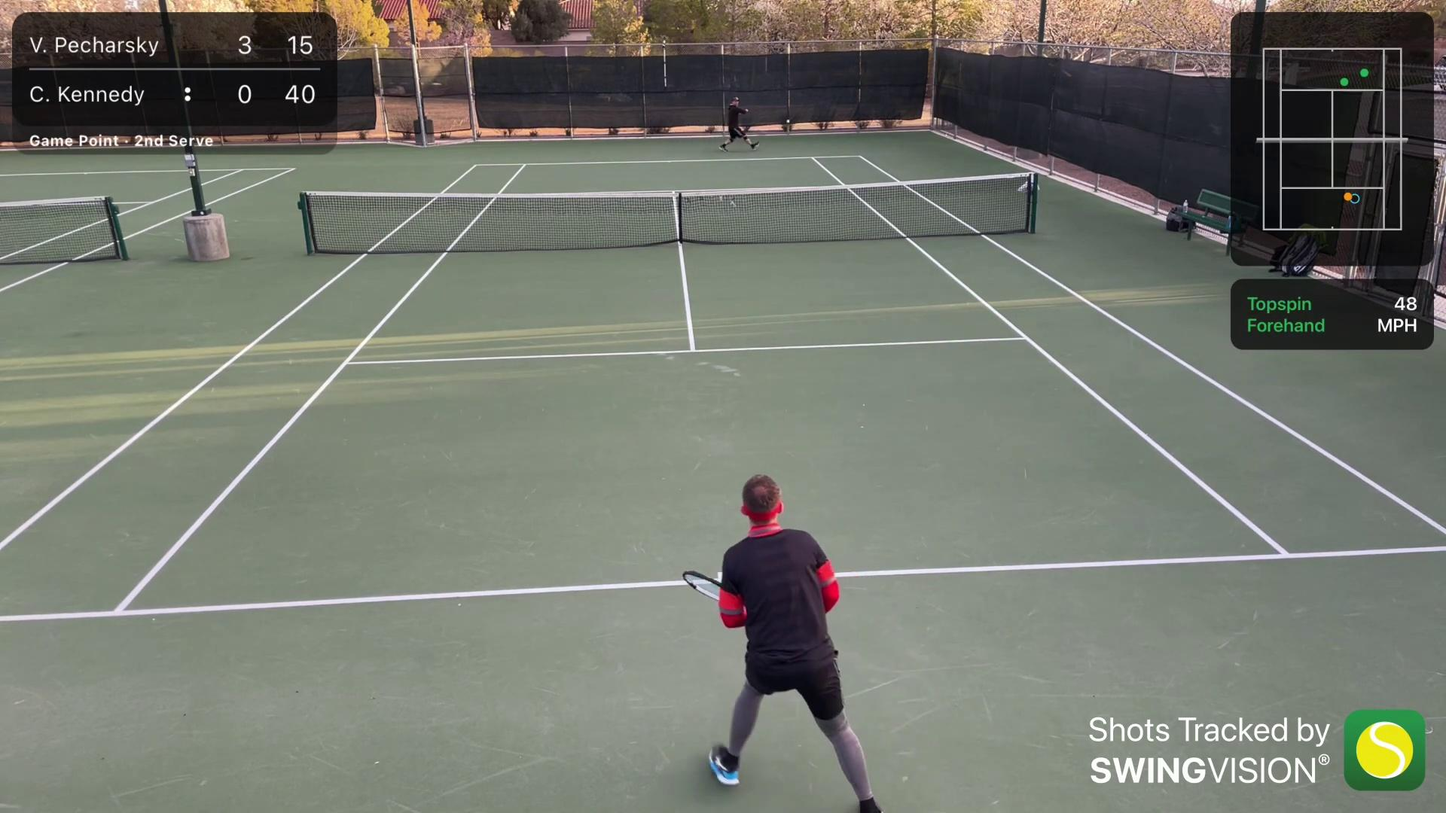ball: (785, 117, 792, 124)
